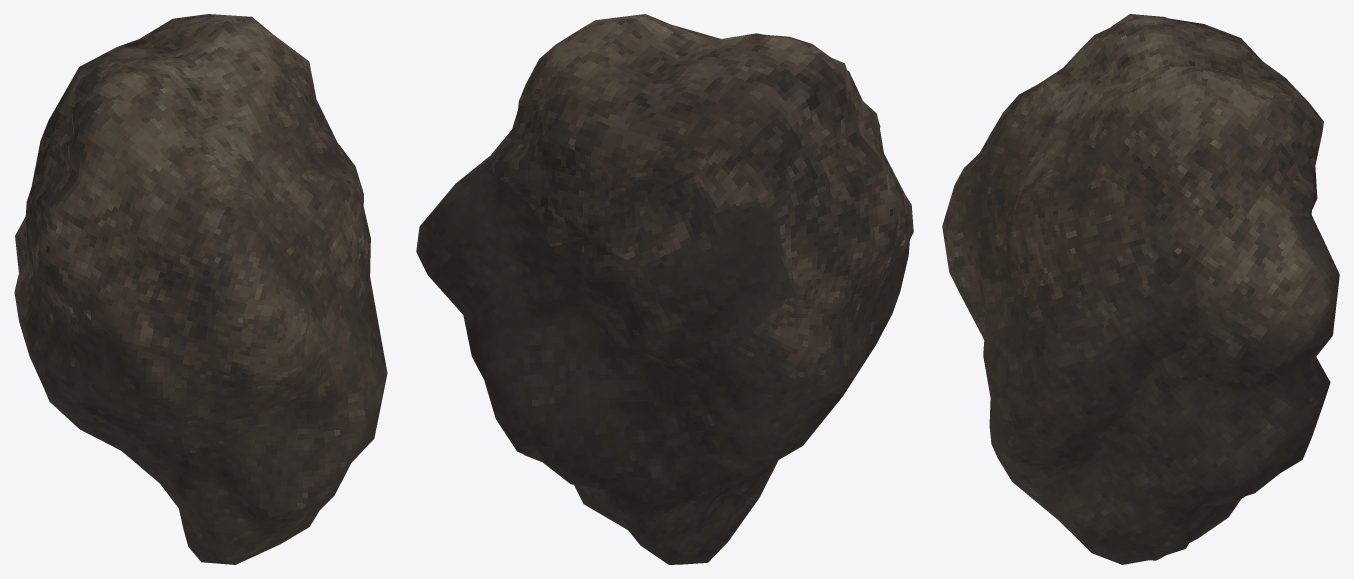
Rendered from SM_RP2_Rock_2m_1.glb.
The picture shows the model from 3 angles, left to right: view 1: azimuth 30°, elevation 25°; view 2: azimuth 150°, elevation 25°; view 3: azimuth 270°, elevation 25°; orthographic projection. The views are drawn at different scales.
Visible parts, largest first — view 1: SM_RP2_Rock_2m_1; view 2: SM_RP2_Rock_2m_1; view 3: SM_RP2_Rock_2m_1.
Boxes of the visible parts, box(x1,y1,x2,y2) form: SM_RP2_Rock_2m_1: box(14, 14, 387, 564); SM_RP2_Rock_2m_1: box(416, 14, 913, 564); SM_RP2_Rock_2m_1: box(942, 14, 1339, 564).
Size of the model in its own units: 2.35 by 3.26 by 2.31.
Materials: 1 (1 with a texture image).
